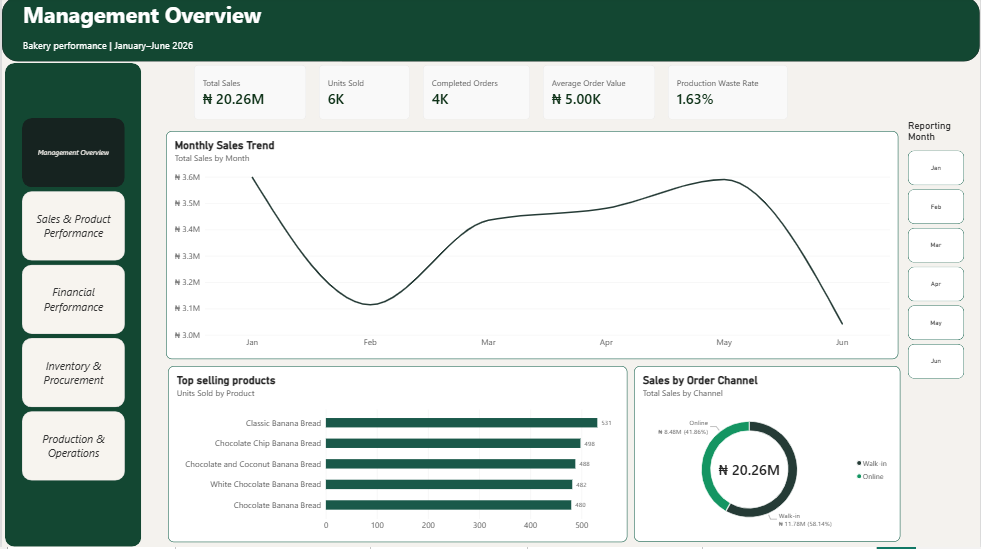

The dashboard page shown, as its layout file describes it:
{"tool":"powerbi","page":{"name":"Management Overview","canvas":[1920,1080],"ordinal":0},"visuals":[{"type":"shape","box":[0,0,1920,126.7],"z":0},{"type":"cardVisual","fields":{"Data":["Measure.Average Order Value"]},"box":[1062.4,133.9,220,107.5],"z":0,"group":"g1"},{"type":"textbox","box":[40.9,6.8,625,120],"z":1000},{"type":"cardVisual","fields":{"Data":["Measure.Production Waste Rate"]},"box":[1308,133.9,235,107.5],"z":1000,"group":"g1"},{"type":"cardVisual","fields":{"Data":["Measure.Units Sold"]},"box":[622.6,133.9,178.8,107.5],"z":2000,"group":"g1"},{"type":"lineChart","title":"Monthly Sales Trend","fields":{"Category":["DimDate.Month"],"Y":["Measure.Total Sales"]},"box":[321.8,263.5,1437.5,447.5],"z":2000},{"type":"cardVisual","fields":{"Data":["Measure.Completed Orders"]},"box":[826.9,133.9,210,107.5],"z":3000,"group":"g1"},{"type":"clusteredBarChart","title":"Top selling products","fields":{"Category":["products.product_name"],"Y":["Measure.Units Sold"]},"box":[325.5,724.5,902,346],"z":3000},{"type":"cardVisual","fields":{"Data":["Measure.Total Sales"]},"box":[377,133.9,220,107.5],"z":4000,"group":"g1"},{"type":"donutChart","title":"Sales by Order Channel","fields":{"Category":["orders.channel"],"Y":["Measure.Total Sales"]},"box":[1240.5,724.5,523,345],"z":4000},{"type":"advancedSlicerVisual","title":"Reporting Month","fields":{"Values":["DimDate.Month"]},"box":[1780,242.5,110,525],"z":5000},{"type":"shape","box":[6.7,130,267.5,950],"z":6000},{"type":"pageNavigator","box":[40,237.5,202.5,712.5],"z":7000},{"type":"group","id":"g1","title":"Group 1","box":[377,133.9,1166,107.5],"z":8000}]}

Visuals, with their boxes in screenshot pixels (x1, y1, x2, y2), scaled from the page's 1920x1080 canvas onto the 981x549 screenshot:
shape: detection(0, 0, 980, 64)
cardVisual - Measure.Average Order Value: detection(543, 68, 655, 123)
textbox: detection(21, 3, 340, 64)
cardVisual - Measure.Production Waste Rate: detection(668, 68, 788, 123)
cardVisual - Measure.Units Sold: detection(318, 68, 409, 123)
"Monthly Sales Trend" lineChart: detection(164, 134, 899, 361)
cardVisual - Measure.Completed Orders: detection(422, 68, 530, 123)
"Top selling products" clusteredBarChart: detection(166, 368, 627, 544)
cardVisual - Measure.Total Sales: detection(193, 68, 305, 123)
"Sales by Order Channel" donutChart: detection(634, 368, 901, 544)
"Reporting Month" advancedSlicerVisual: detection(909, 123, 966, 390)
shape: detection(3, 66, 140, 548)
pageNavigator: detection(20, 121, 124, 483)
"Group 1" group: detection(193, 68, 788, 123)
